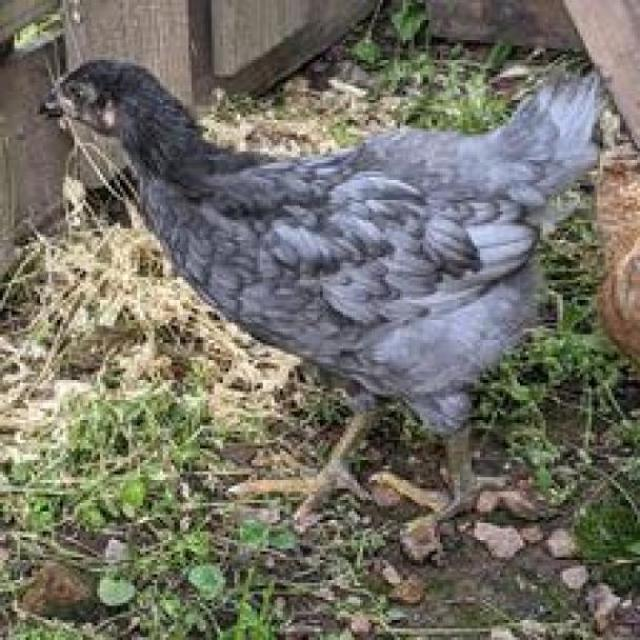Chicken: (47, 33, 607, 553)
